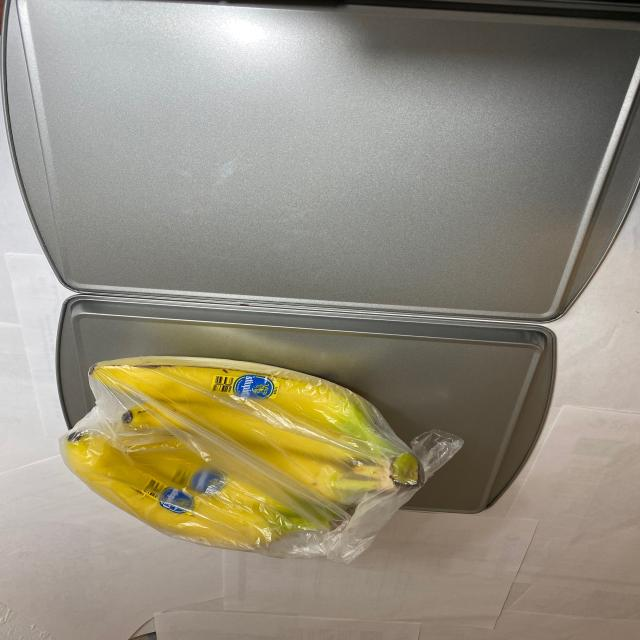banana: (63, 347, 440, 566)
